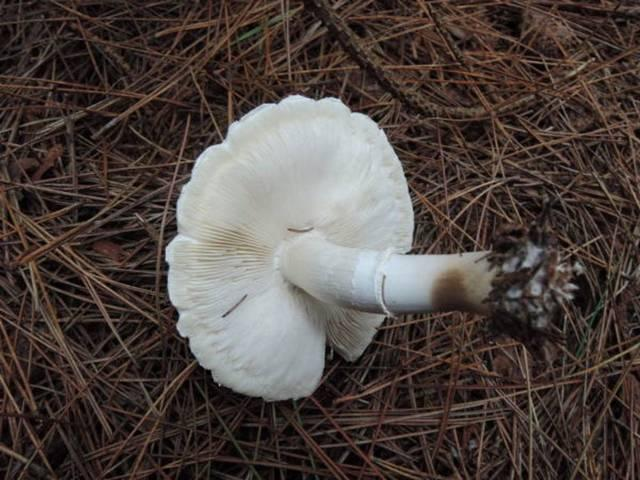poisonous_mushroom: (163, 93, 581, 402)
